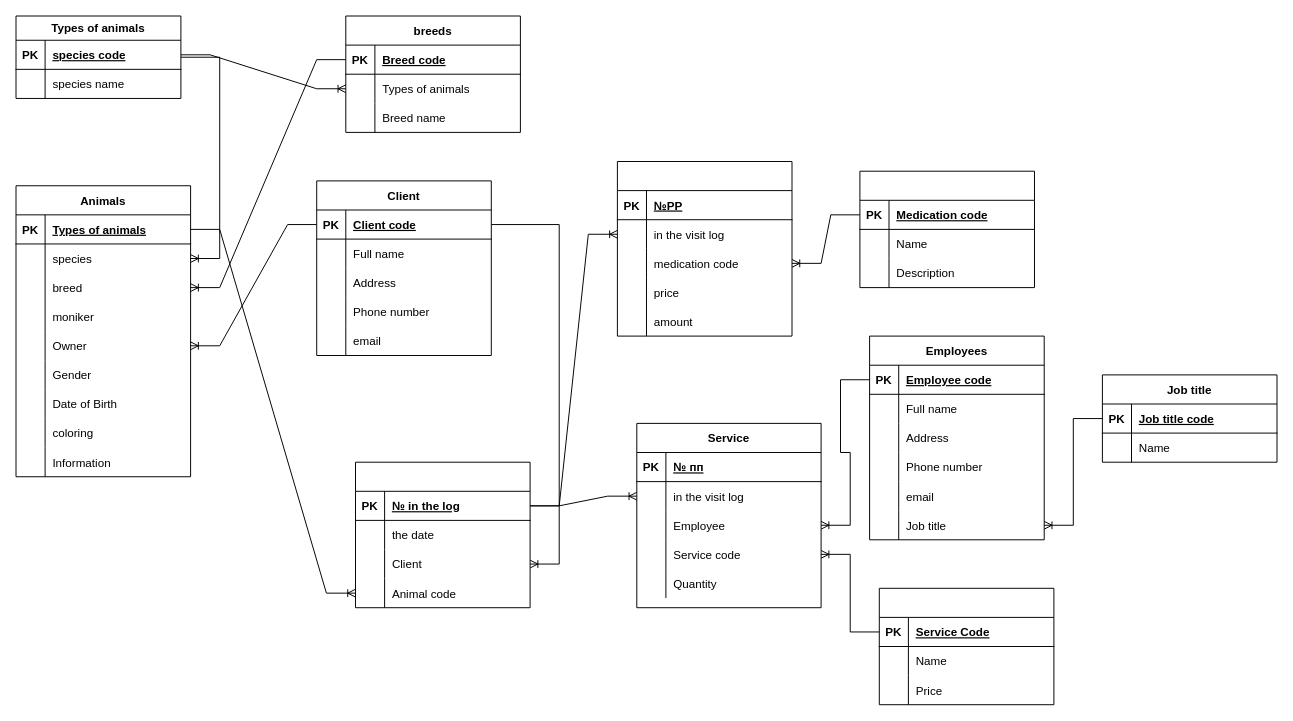
Some shapes in this 1293 by 721 pixel diagram are drawn without their labels. Each missing label, with the box of its shape:
Medicines: (859, 170, 1035, 288)
Services: (878, 587, 1054, 705)
used medicines: (616, 161, 792, 336)
Visit log: (355, 461, 530, 608)
